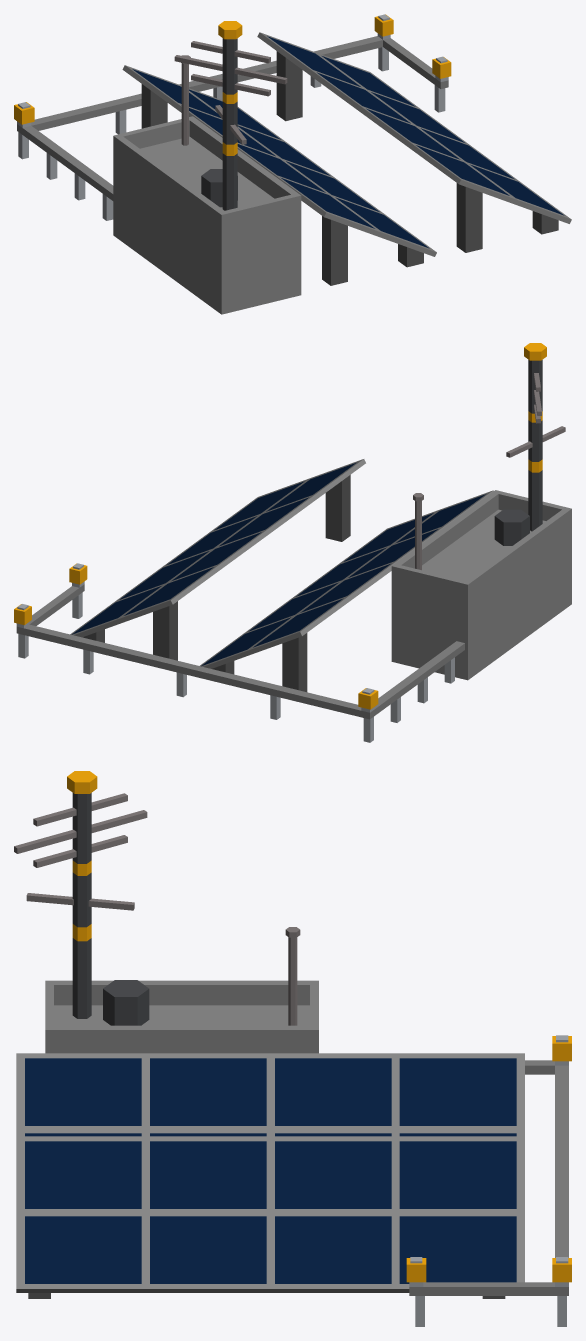
File: SolarPanels.fbx
3 views of the same model, one above another, from view 1: azimuth 30°, elevation 25°; view 2: azimuth 150°, elevation 25°; view 3: azimuth 270°, elevation 25° (orthographic). The views are drawn at different scales.
Visible parts, largest first — view 1: base, glow, glow_2; view 2: base, glow; view 3: base, glow.
Boxes of the visible parts, x1,y1,x2,y2 form: base: (17, 14, 571, 314); glow: (14, 14, 451, 124); glow_2: (218, 21, 242, 39); base: (16, 360, 571, 742); glow: (14, 563, 378, 709); base: (14, 793, 568, 1326); glow: (406, 1036, 571, 1282).
Size of the model in its own units: 391 by 268 by 393.
